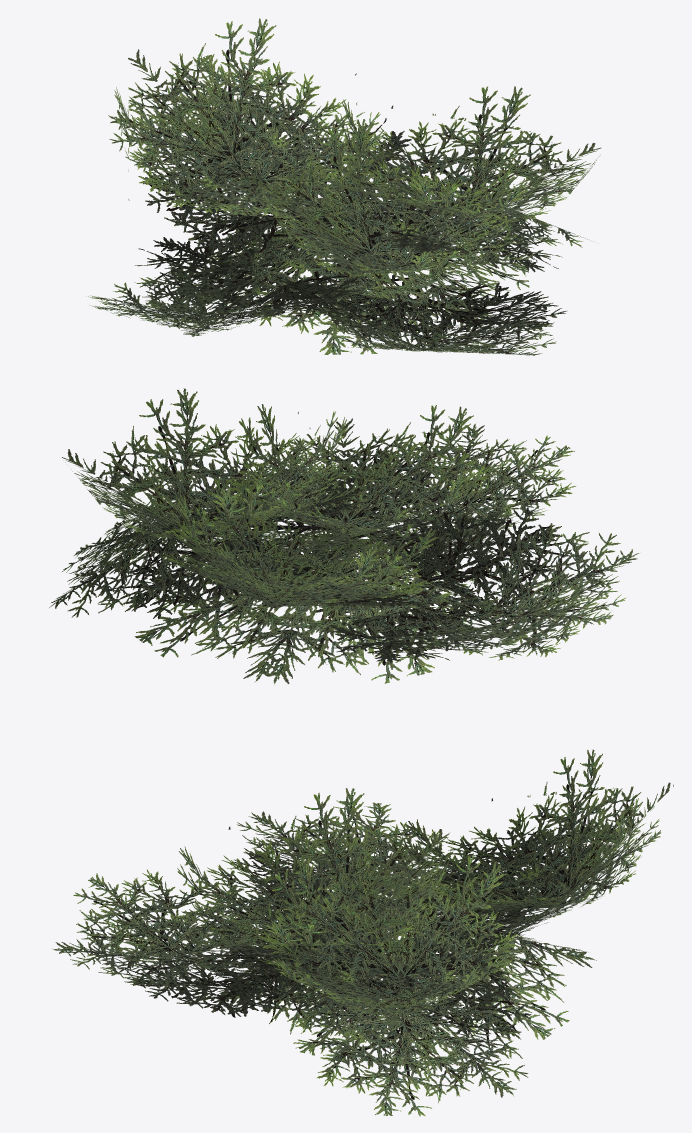
The model's file is flora_tree_bush_steppe_02_v2.glb.
3 views of the same model, one above another, from view 1: azimuth 30°, elevation 25°; view 2: azimuth 150°, elevation 25°; view 3: azimuth 270°, elevation 25° (orthographic). The views are drawn at different scales.
Visible parts, largest first — view 1: flora_tree_bush_steppe_02_v2_part0; view 2: flora_tree_bush_steppe_02_v2_part0; view 3: flora_tree_bush_steppe_02_v2_part0.
Boxes of the visible parts, bbox=[...] form: flora_tree_bush_steppe_02_v2_part0: bbox=[86, 18, 601, 355]; flora_tree_bush_steppe_02_v2_part0: bbox=[49, 388, 639, 684]; flora_tree_bush_steppe_02_v2_part0: bbox=[53, 749, 673, 1116].
Bounding box in the file's own units: 8.37 × 3.14 × 8.74.
Materials: 1 (1 with a texture image).
